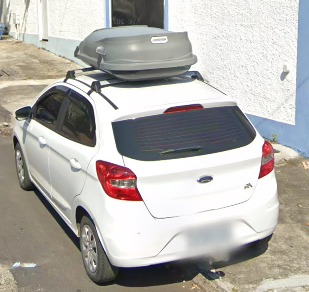car: (11, 76, 278, 282)
